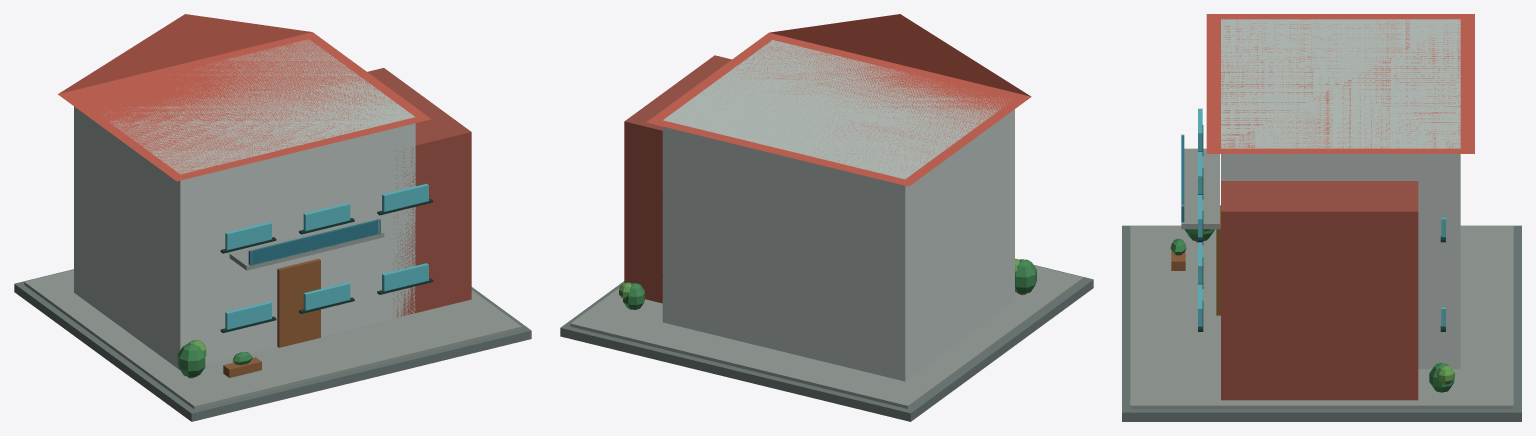
The model's file is house_lv3.glb.
The picture shows the model from 3 angles, left to right: view 1: azimuth 30°, elevation 25°; view 2: azimuth 150°, elevation 25°; view 3: azimuth 270°, elevation 25°; orthographic projection. The views are drawn at different scales.
Visible parts, largest first — view 1: rough, glossy; view 2: rough; view 3: rough, glossy.
Boxes of the visible parts, x1,y1,x2,y2 form: rough: [14, 14, 531, 421]; glossy: [225, 183, 428, 329]; rough: [560, 14, 1093, 421]; rough: [1122, 14, 1521, 421]; glossy: [1181, 108, 1445, 326].
Size of the model in its own units: 9.4 by 6.78 by 8.5.
